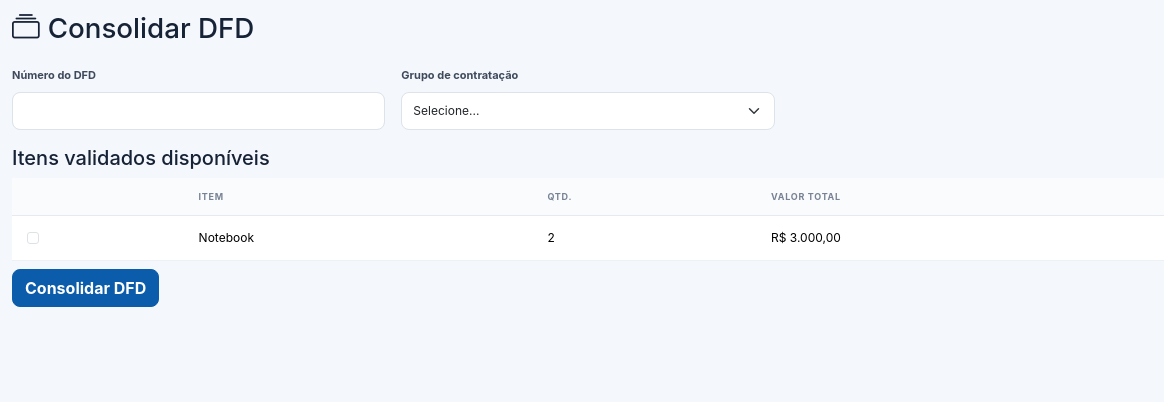
Test: DfdConsolidar › valida campos obrigatórios antes de consolidar
Expected: the text "Notebook" is shown, [184,216,532,261]
Click the button "Consolidar DFD". click: [86, 288]
box: [12,269,159,307]
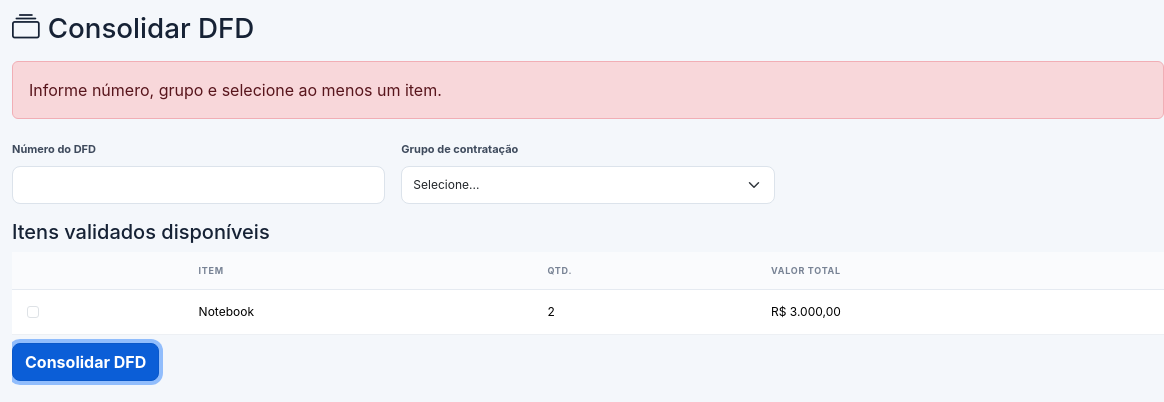
Expected: the text "Informe número, grupo e selecione ao menos um item." is shown, [12,61,1163,119]
